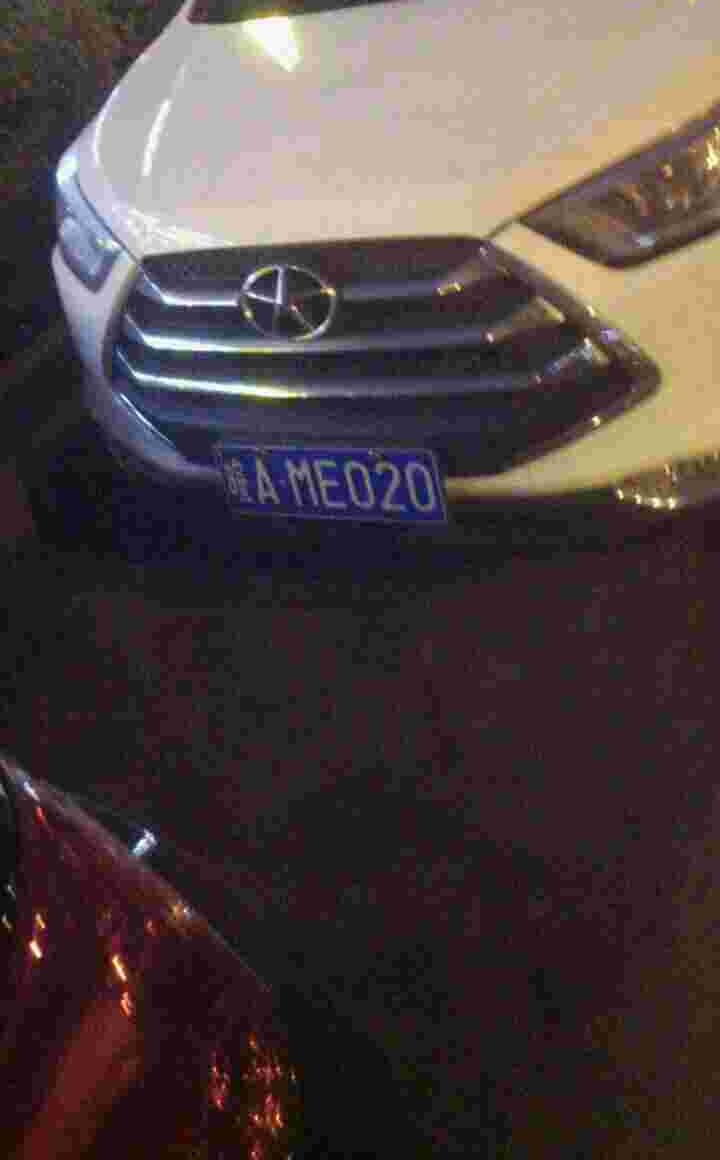plate: (206, 439, 454, 528)
